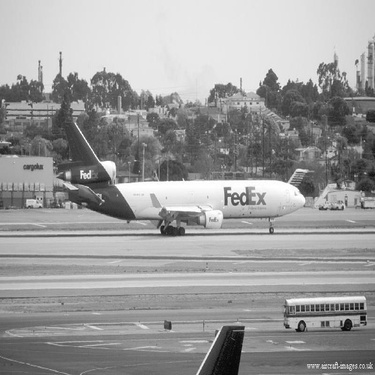airplane: (32, 94, 318, 254)
